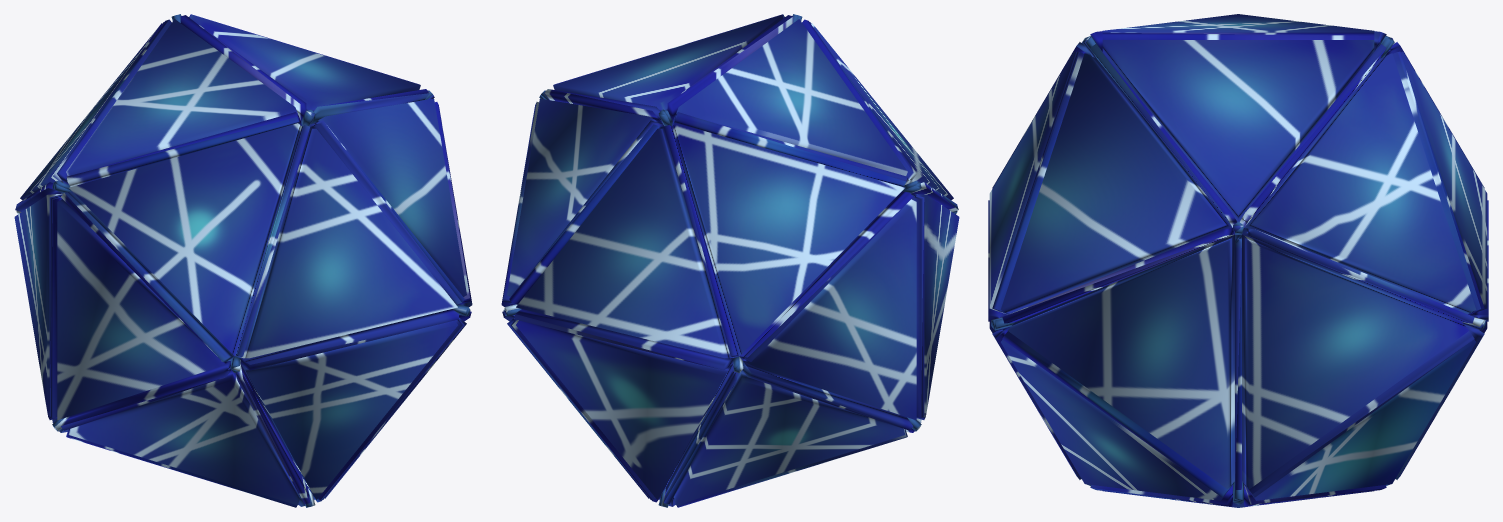
The picture shows the model from 3 angles, left to right: view 1: azimuth 30°, elevation 25°; view 2: azimuth 150°, elevation 25°; view 3: azimuth 270°, elevation 25°; orthographic projection. The views are drawn at different scales.
Visible parts, largest first — view 1: Object_0.001; view 2: Object_0.001; view 3: Object_0.001.
Boxes of the visible parts, x1,y1,x2,y2 form: Object_0.001: (14, 14, 472, 507); Object_0.001: (501, 14, 959, 507); Object_0.001: (988, 14, 1488, 507).
Bounding box in the file's own units: 185 × 185 × 185.
3 materials, 2 textured.
